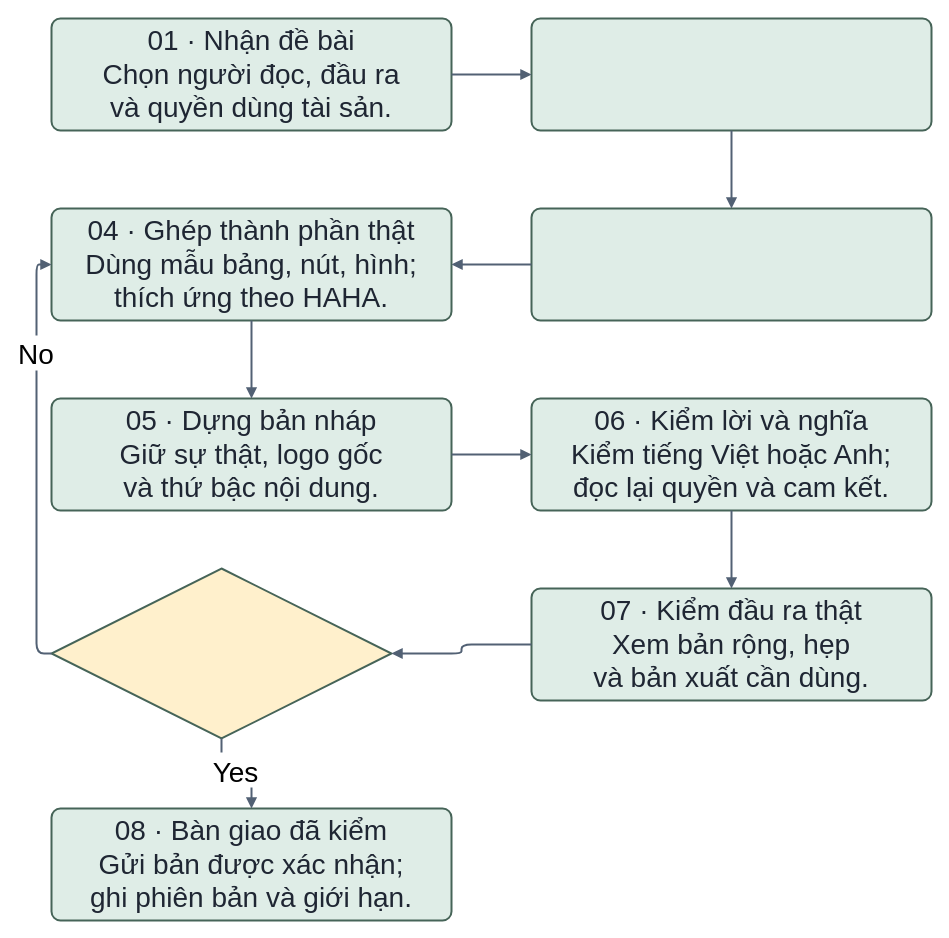
Some shapes in this 949 by 938 pixel diagram are drawn without their labels. Here are the shapes that lost their labels. From the top down, the centre of each, then its label:
At point 731,74: "02 · Kiểm bộ đã cài Đối chiếu phiên bản và mã kiểm tệp.".
At point 731,264: "03 · Chọn đúng hướng dẫn Đọc phần HAHA cần dùng và giọng viết hoặc nói.".
At point 221,653: "Đủ bằng chứng và quyền gửi?".
